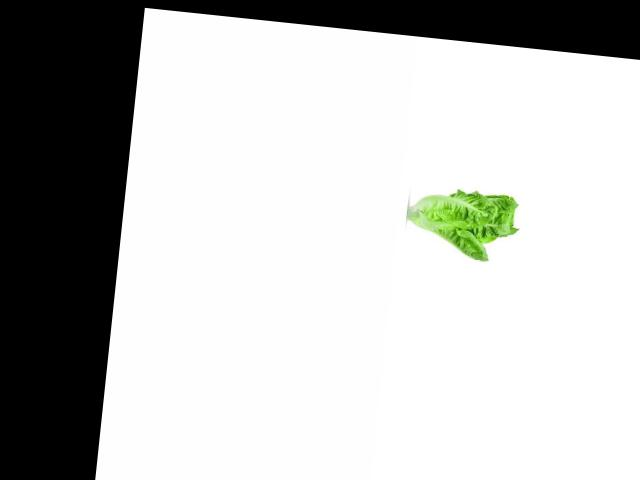lettuce: (407, 180, 523, 265)
